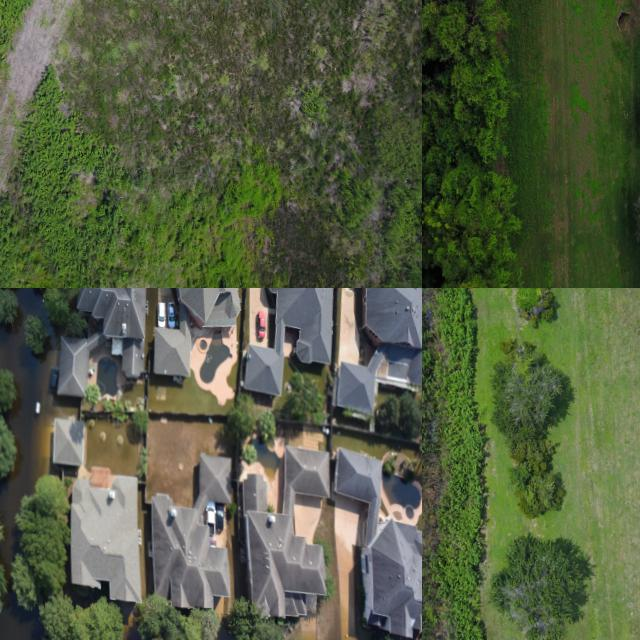fire: (0, 326, 78, 578), (0, 614, 39, 640)
